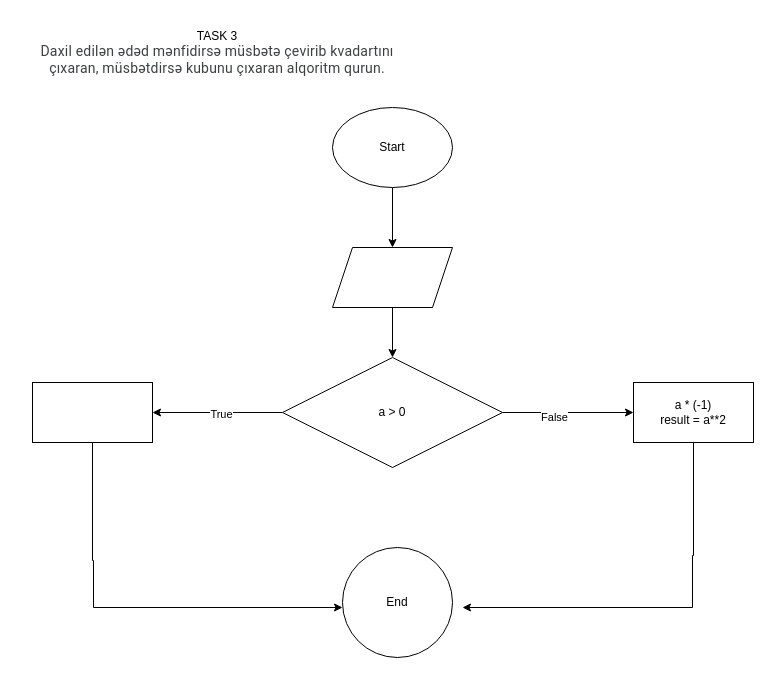
The diagram is 771 pixels wide and 675 high, and some of its shapes have lost their labels. Each missing label, with the centre of its shape:
a result = 0: point (392, 277)
result == a ** 3: point (92, 412)
